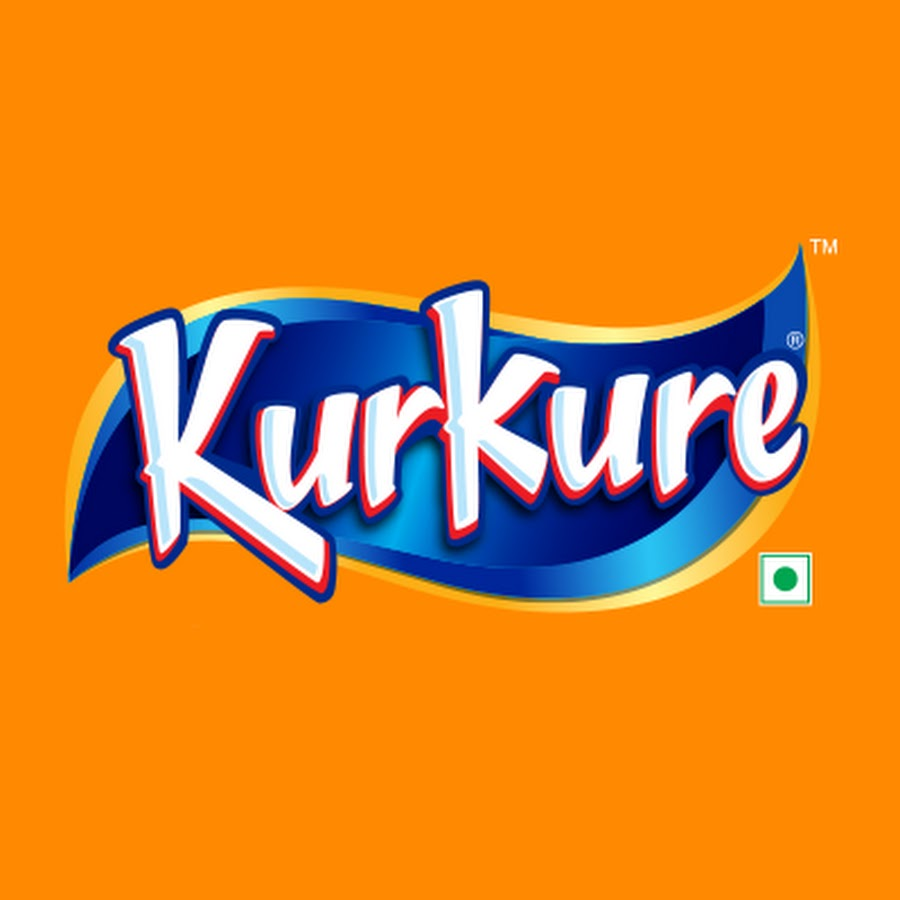kurkure: (59, 194, 835, 644)
